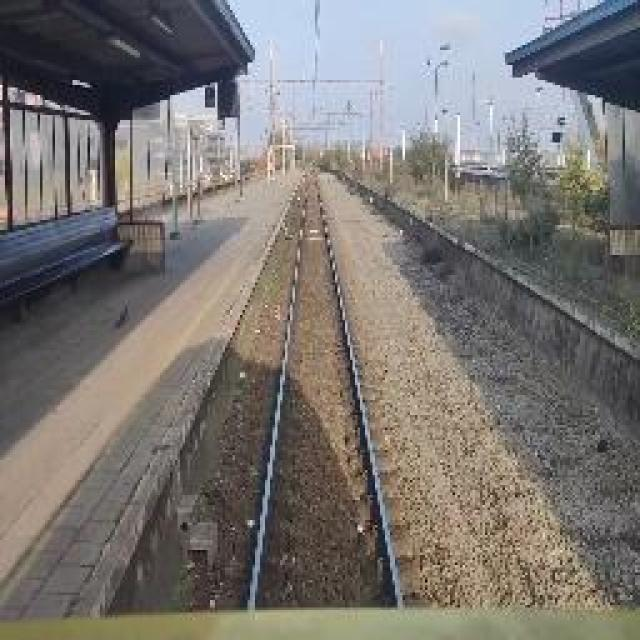rail: (210, 162, 427, 612)
